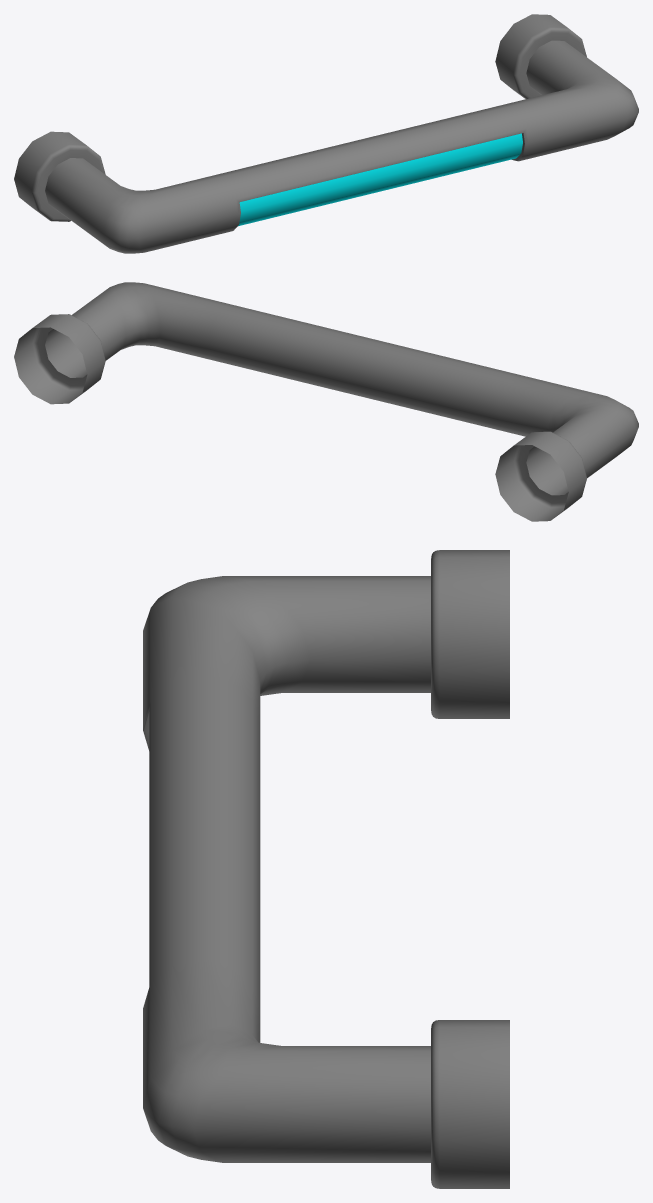
File: Lght_1.fbx
3 renders of one model, top to bottom at view 1: azimuth 30°, elevation 25°; view 2: azimuth 150°, elevation 25°; view 3: azimuth 270°, elevation 25°, orthographic. The views are drawn at different scales.
Visible parts, largest first — view 1: Light_1; view 2: Light_1; view 3: Light_1.
Boxes of the visible parts, x1,y1,x2,y2 form: Light_1: (14, 14, 638, 253); Light_1: (14, 282, 638, 521); Light_1: (143, 550, 509, 1188).
Size of the model in its own units: 0.7636 by 0.2188 by 0.1011.
